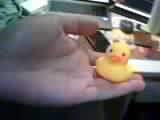duck: (91, 29, 127, 81)
